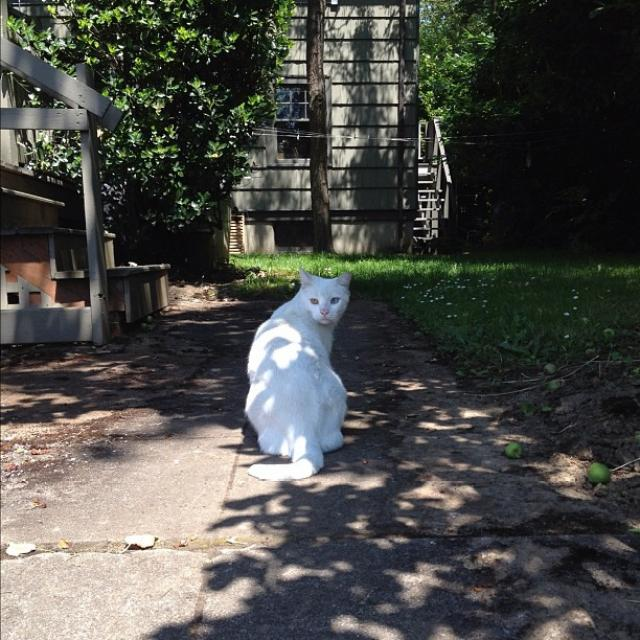cats: (238, 266, 357, 484)
